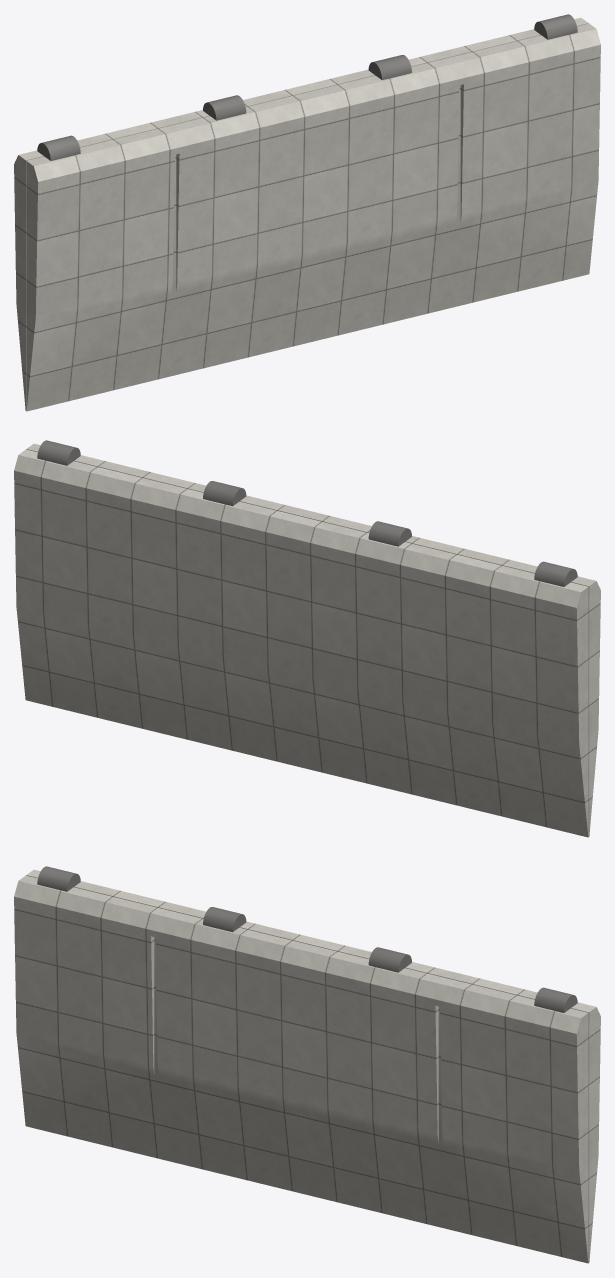
File: ax_aero_24_csr_rudder_brake_m.glb
3 views of the same model, one above another, from view 1: azimuth 30°, elevation 25°; view 2: azimuth 150°, elevation 25°; view 3: azimuth 330°, elevation 25° (orthographic).
Parts seen in each view (by area): view 1: surface_upper, surface_lower, hinge_fittings; view 2: surface_lower, surface_upper, hinge_fittings; view 3: surface_upper, surface_lower, hinge_fittings.
Part boxes in pixels (left/top/right/bottom): surface_upper: left=26, top=23, right=600, bottom=411; surface_lower: left=14, top=17, right=588, bottom=410; hinge_fittings: left=37, top=14, right=577, bottom=160; surface_lower: left=14, top=449, right=588, bottom=837; surface_upper: left=26, top=443, right=600, bottom=836; hinge_fittings: left=37, top=440, right=577, bottom=586; surface_upper: left=14, top=875, right=588, bottom=1263; surface_lower: left=26, top=869, right=600, bottom=1262; hinge_fittings: left=37, top=866, right=577, bottom=1012.
Bounding box in the file's own units: 1.88 × 0.8392 × 0.14.
Materials: 2 (2 with a texture image).
